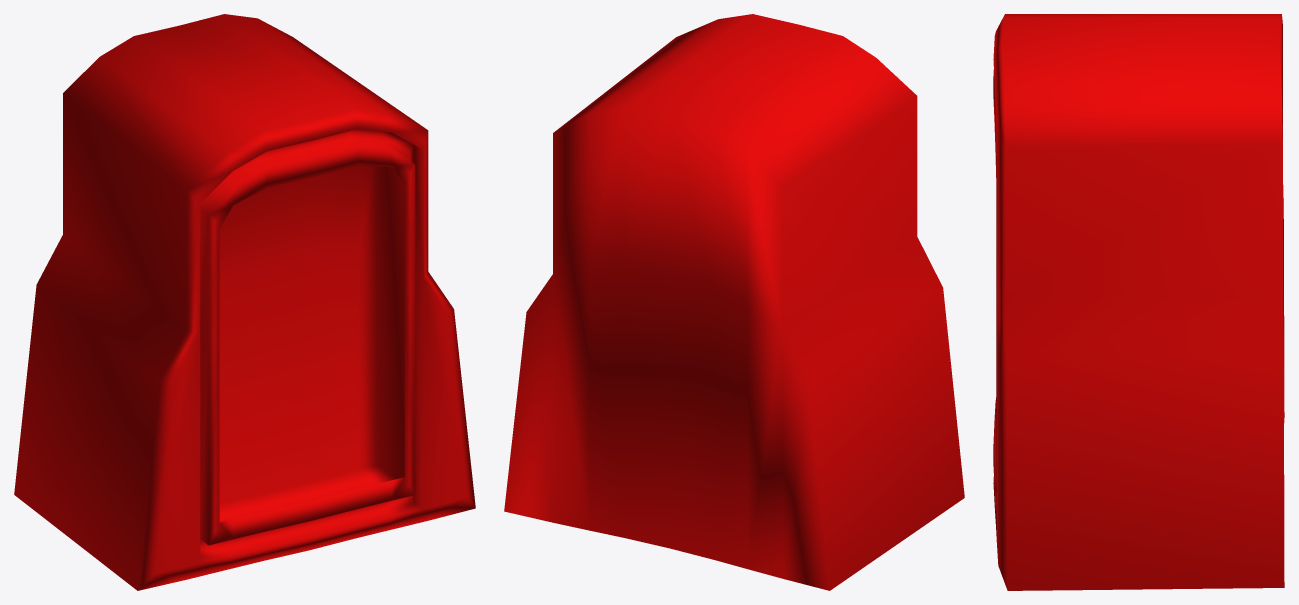
Rendered from mdl_Corredor_Puerta_ascensor.fbx.
3 views of the same model, side by side, from view 1: azimuth 30°, elevation 25°; view 2: azimuth 150°, elevation 25°; view 3: azimuth 270°, elevation 25° (orthographic). The views are drawn at different scales.
Visible parts, largest first — view 1: mdl_Corredor_Puerta_ascensor; view 2: mdl_Corredor_Puerta_ascensor; view 3: mdl_Corredor_Puerta_ascensor.
Part boxes in pixels (x1=…): mdl_Corredor_Puerta_ascensor: x1=14, y1=14, x2=475, y2=590; mdl_Corredor_Puerta_ascensor: x1=504, y1=14, x2=964, y2=590; mdl_Corredor_Puerta_ascensor: x1=993, y1=14, x2=1284, y2=590.
Size of the model in its own units: 3.46 by 4.21 by 2.41.
